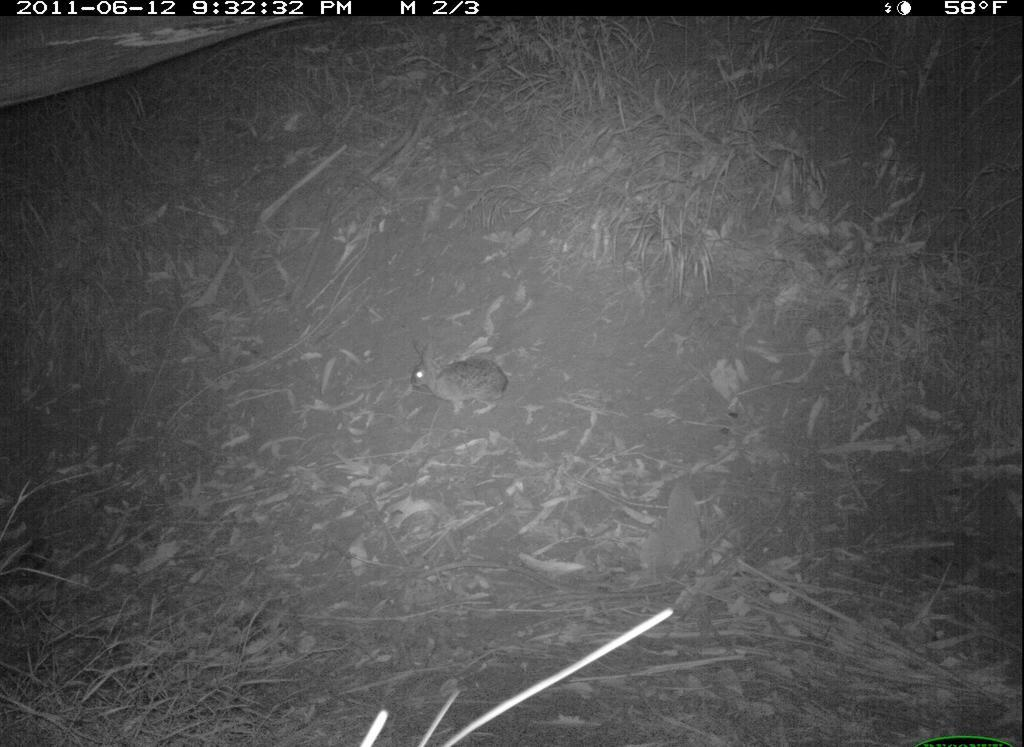rabbit: (400, 331, 534, 424)
